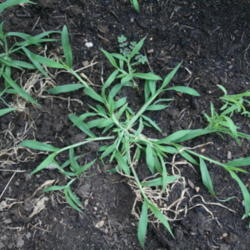crabgrass: (9, 23, 250, 243)
